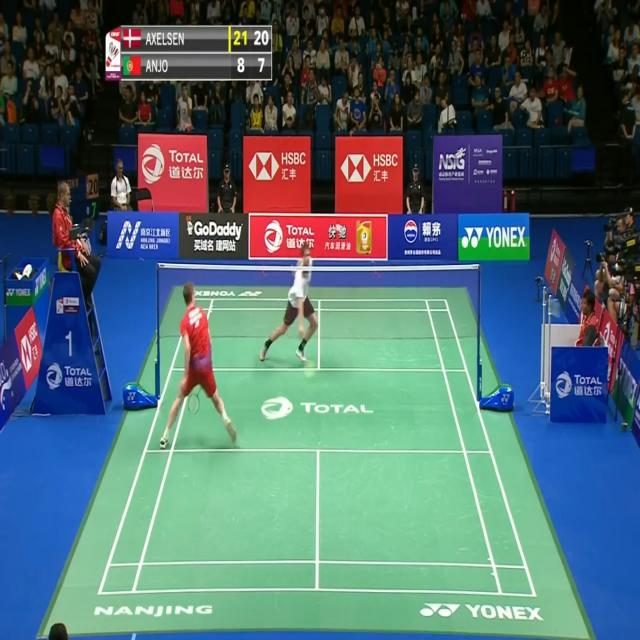Player1: (158, 279, 239, 463)
Player2: (256, 242, 324, 376)
